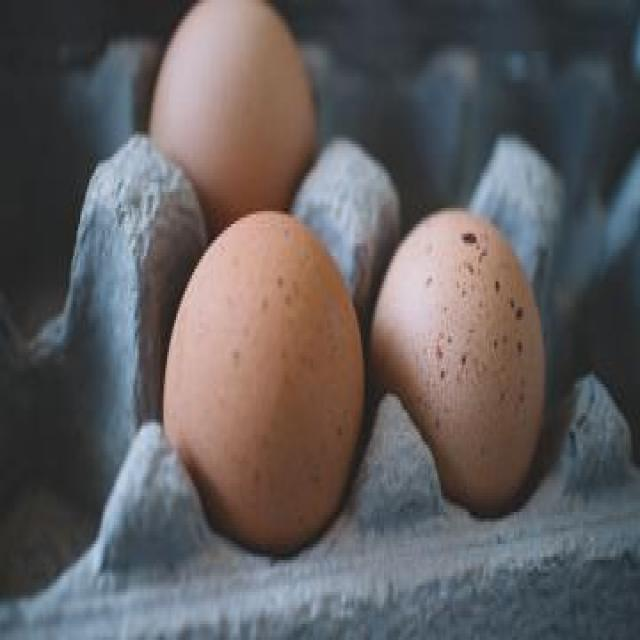eggs: (161, 213, 363, 550), (373, 209, 545, 513), (150, 0, 317, 209)
